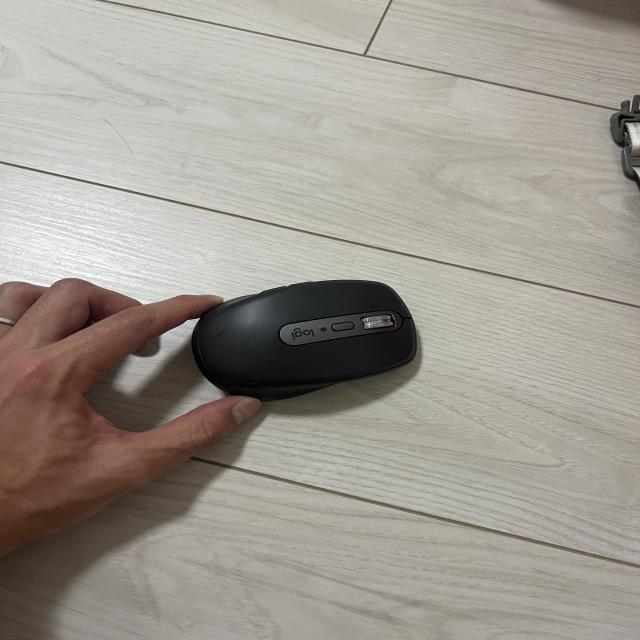mouse: (199, 276, 420, 402)
